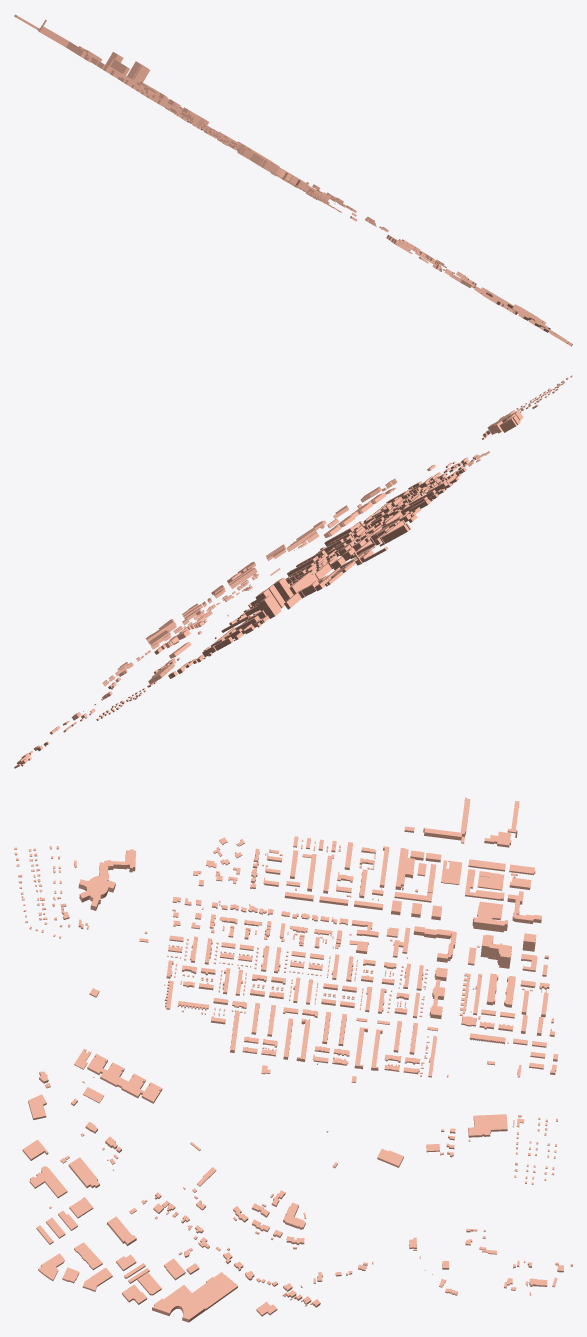
3 renders of one model, top to bottom at view 1: azimuth 30°, elevation 25°; view 2: azimuth 150°, elevation 25°; view 3: azimuth 270°, elevation 25°, orthographic. The views are drawn at different scales.
Bounding box in the file's own units: 1087 × 815 × 1265.
